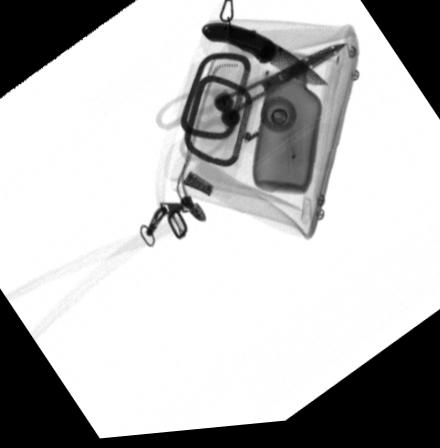Knife: (201, 27, 330, 90)
Scissors: (154, 50, 350, 165)
